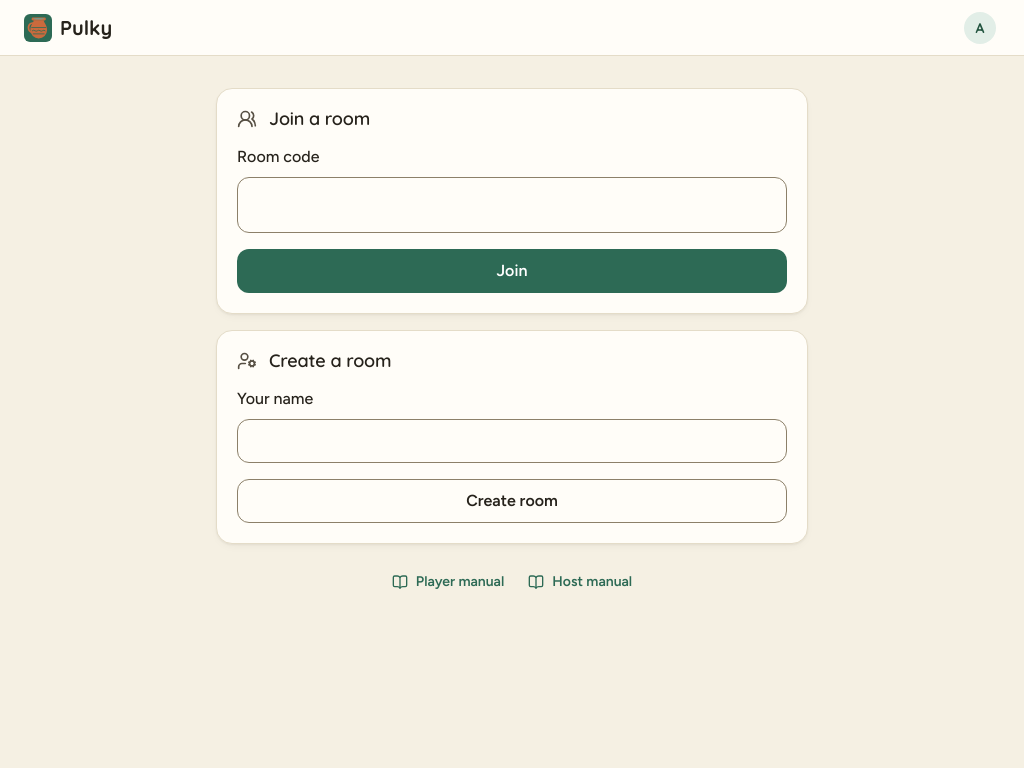
Scenario: Join a room (criterion 8) › failure mode 8: an unknown room does not navigate and says why
The image size is (1024, 768).
Type "abc234" into the field labelled "Room code" at [512, 205], box x1=237 y1=177 x2=787 y2=233
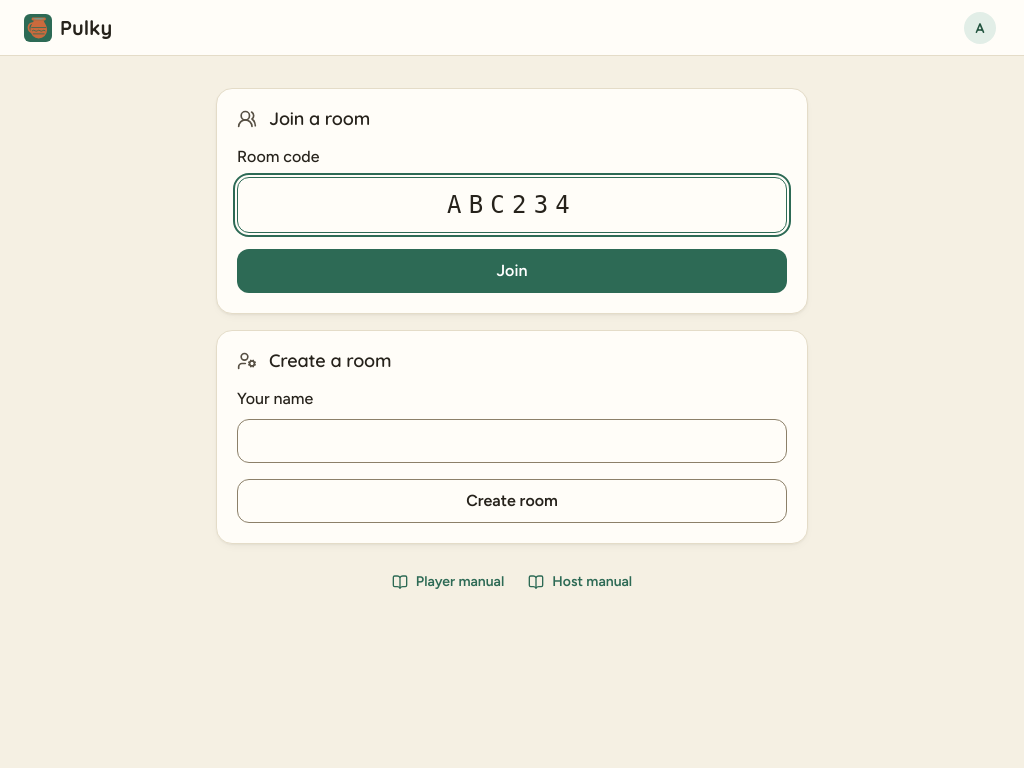
Click the button "Join" at [512, 271], box x1=237 y1=249 x2=787 y2=293
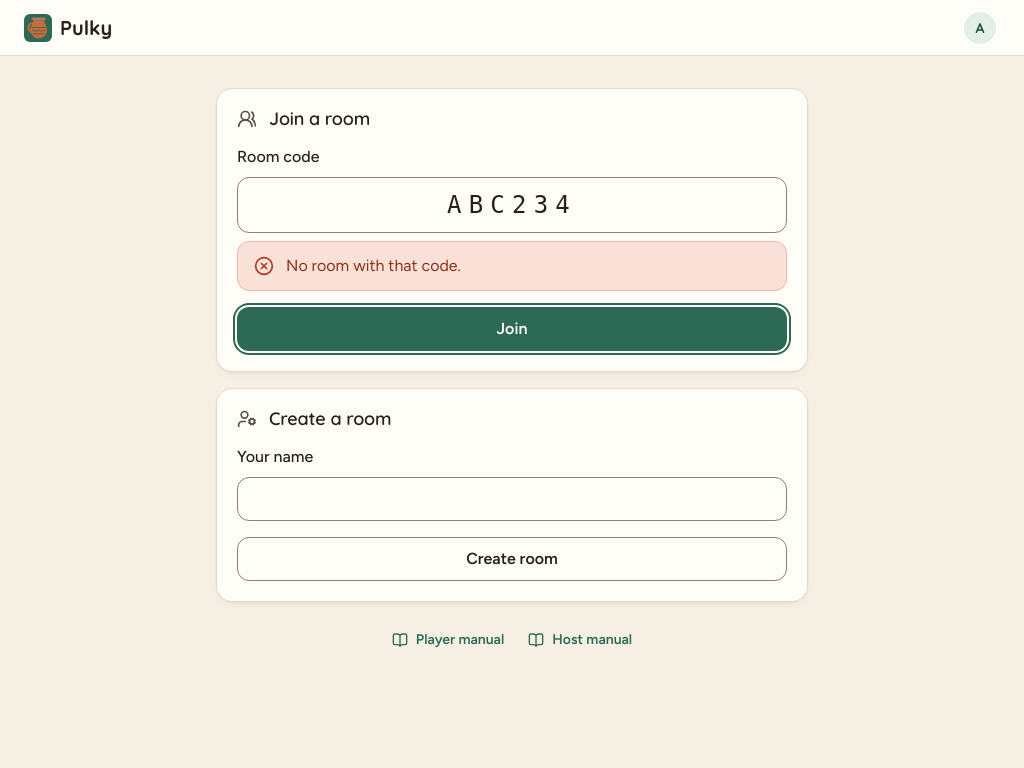
Result: the text "No room with that code." is shown at x1=286 y1=254 x2=461 y2=278
